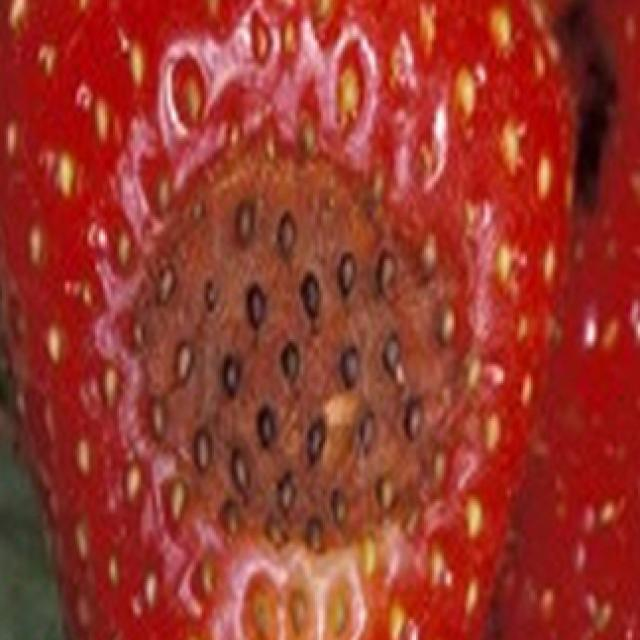Anthracnose Fruit Rot: (75, 104, 494, 591)
